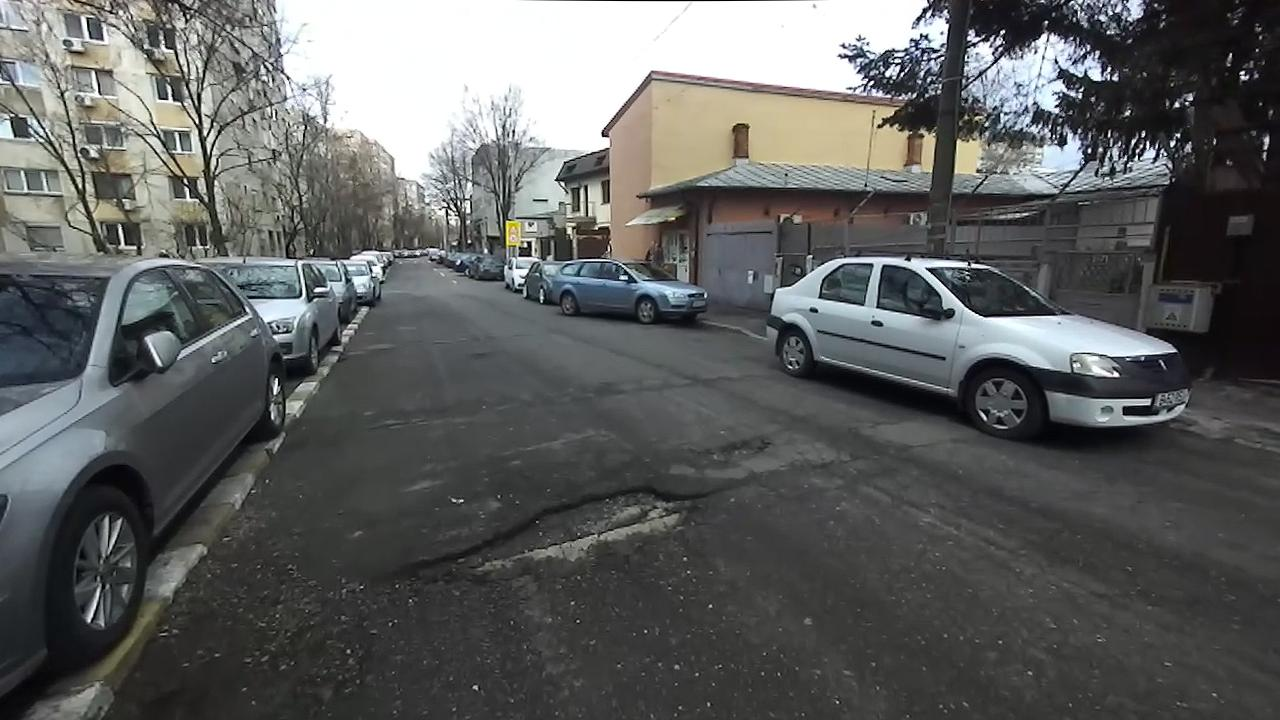pothole: (380, 480, 729, 590), (692, 428, 776, 464)
